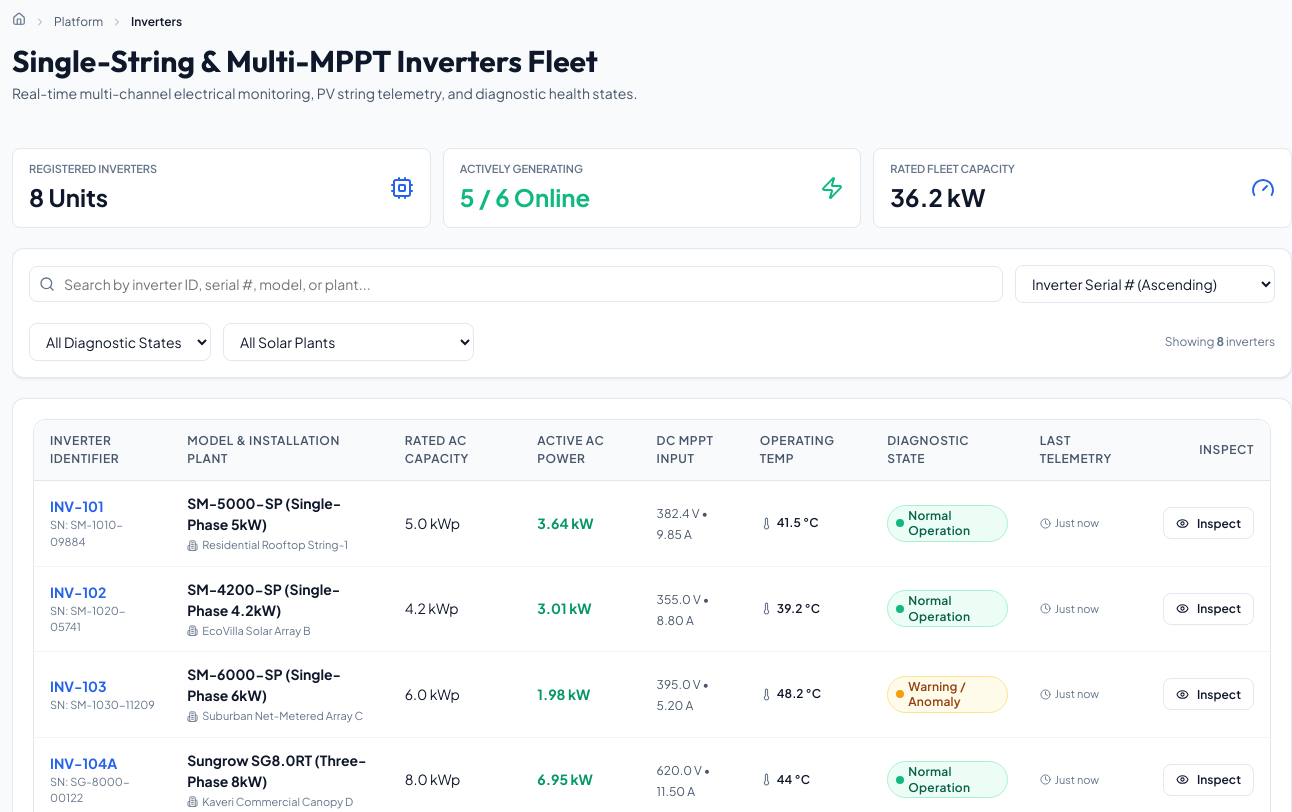
InvertersPage Component & Diagnostics Suite › filters inverters by diagnostic status
Expected: the text "INV-101" is shown, x1=50 y1=497 x2=104 y2=515
Select "Offline" in the dropdown named "Filter by diagnostic state": coordinates (120, 342) x1=29 y1=323 x2=211 y2=361
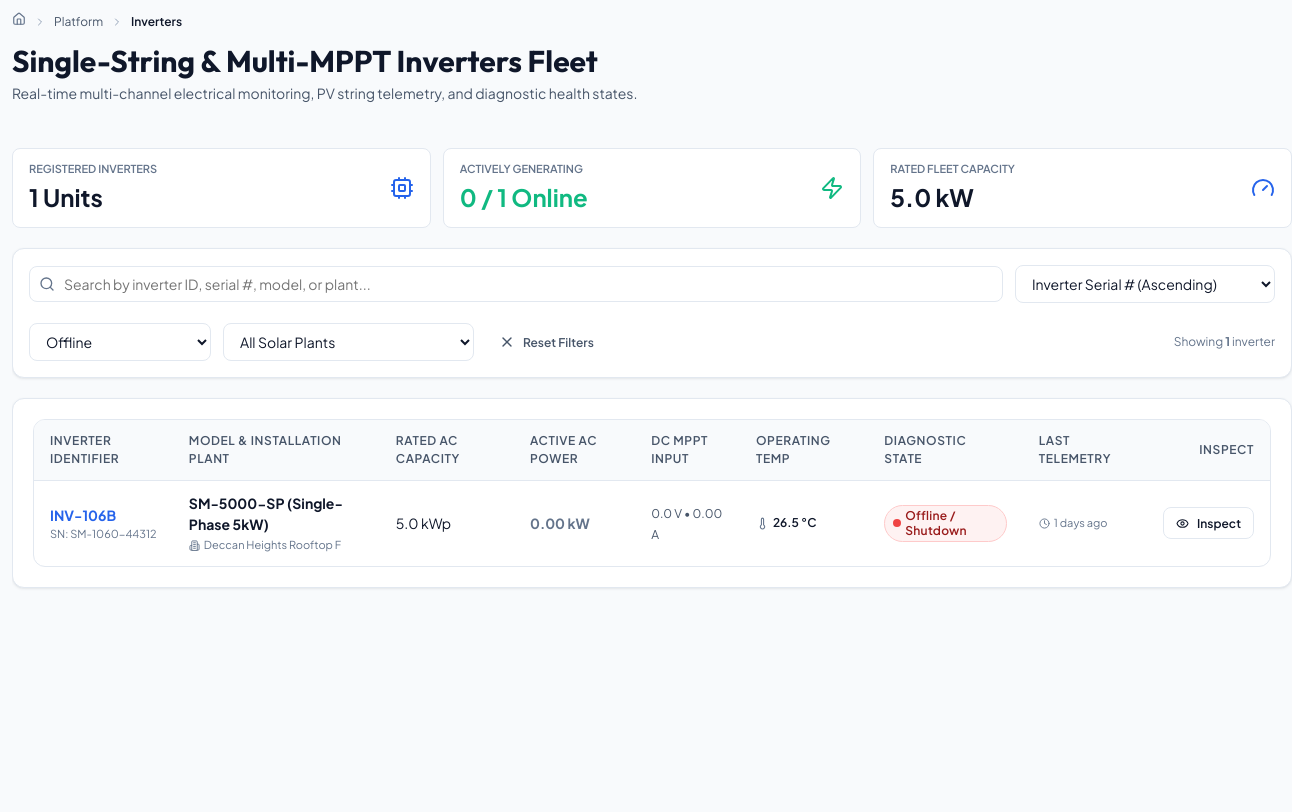
Now the text "INV-106B" is shown, box x1=50 y1=506 x2=116 y2=524
Now the text "INV-101" is gone
